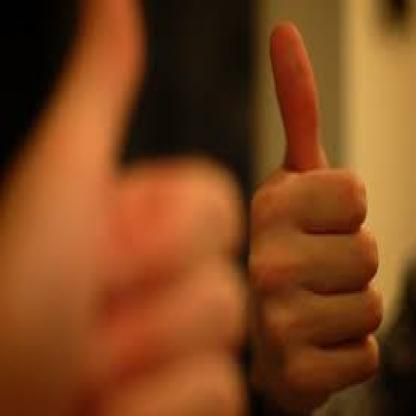thumb_up: (242, 13, 384, 402)
